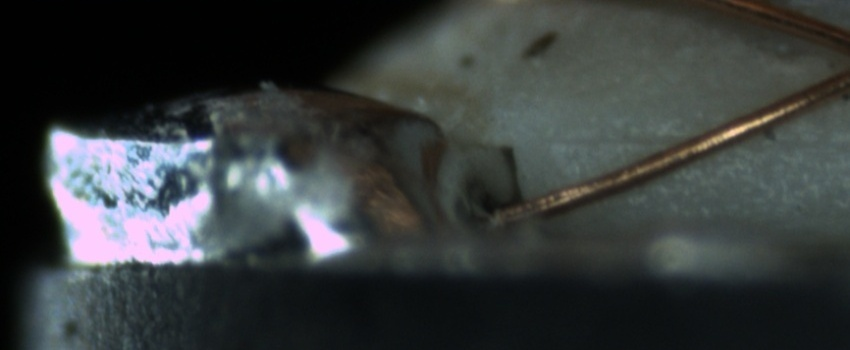DL: (542, 111, 844, 169)
